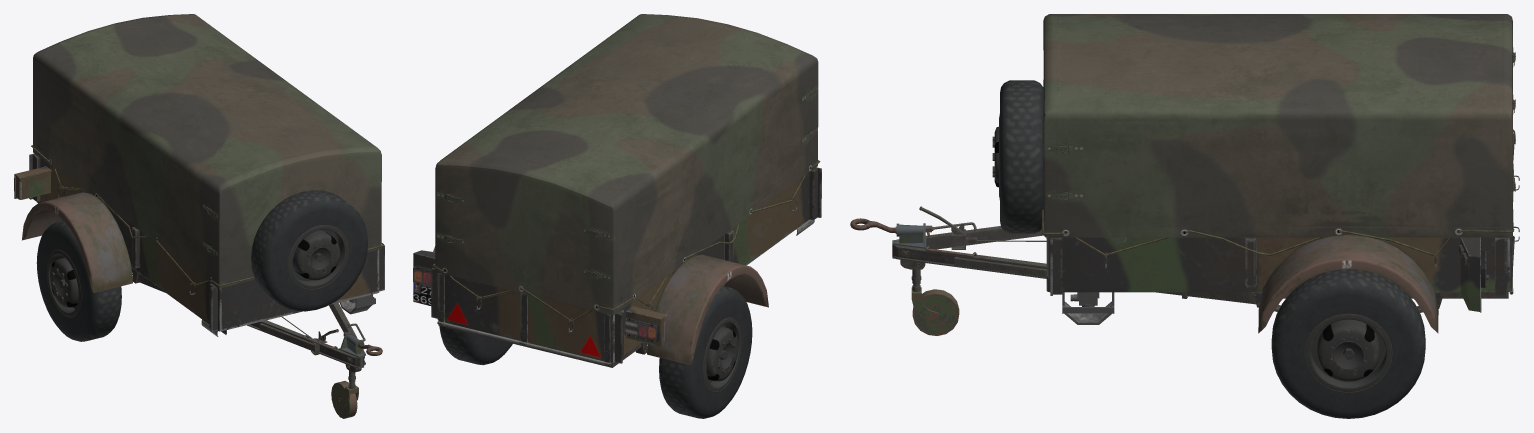
3 renders of one model, left to right at view 1: azimuth 30°, elevation 25°; view 2: azimuth 150°, elevation 25°; view 3: azimuth 270°, elevation 25°, orthographic. The views are drawn at different scales.
Visible parts, largest first — view 1: bache_0, roues_0, gardes_boue_0, armature_0_Remorque_0, base_0, roue_avant_0, tendeurs_0; view 2: bache_0, roues_0, gardes_boue_0, base_0, tendeurs_0, sangles_0, armature_0_Remorque_0; view 3: bache_0, roues_0, armature_0_Remorque_0, gardes_boue_0, base_0, roue_avant_0, tendeurs_0, sangles_0.
Boxes of the visible parts, left/top/right/bottom form: bache_0: left=33, top=14, right=381, bottom=331; roues_0: left=36, top=190, right=367, bottom=341; gardes_boue_0: left=22, top=192, right=132, bottom=292; armature_0_Remorque_0: left=37, top=201, right=382, bottom=368; base_0: left=14, top=153, right=384, bottom=336; roue_avant_0: left=331, top=364, right=361, bottom=418; tendeurs_0: left=31, top=145, right=384, bottom=294; bache_0: left=435, top=14, right=818, bottom=362; roues_0: left=439, top=286, right=752, bottom=418; gardes_boue_0: left=433, top=246, right=768, bottom=364; base_0: left=413, top=167, right=821, bottom=365; tendeurs_0: left=432, top=160, right=820, bottom=332; sangles_0: left=436, top=86, right=817, bottom=280; armature_0_Remorque_0: left=438, top=322, right=647, bottom=367; bache_0: left=1043, top=14, right=1512, bottom=292; roues_0: left=992, top=80, right=1425, bottom=418; armature_0_Remorque_0: left=850, top=206, right=1508, bottom=312; gardes_boue_0: left=1258, top=234, right=1438, bottom=333; base_0: left=1050, top=144, right=1514, bottom=324; roue_avant_0: left=900, top=225, right=977, bottom=335; tendeurs_0: left=1042, top=129, right=1519, bottom=268; sangles_0: left=1047, top=47, right=1515, bottom=200.
Size of the model in its own units: 75.53 by 71.37 by 143.
1 material, 1 textured.
